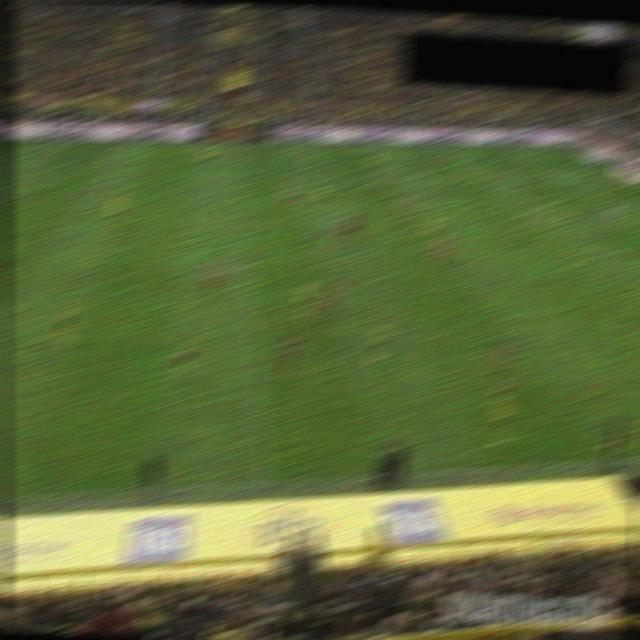bigarea_top_inner: (493, 166, 511, 176)
bigarea_top_outter: (602, 166, 620, 177)
bottom_arc_area_intersection: (608, 247, 626, 256)
corner: (554, 143, 572, 153)
halfcircle_bottom: (236, 259, 254, 268)
halfcircle_top: (229, 190, 248, 200)
midline_bottom_intersection: (253, 475, 277, 491)
midline_top_intersection: (227, 139, 246, 149)
smallarea_top_inner: (614, 191, 632, 201)
top_arc_area_intersection: (536, 198, 555, 207)
